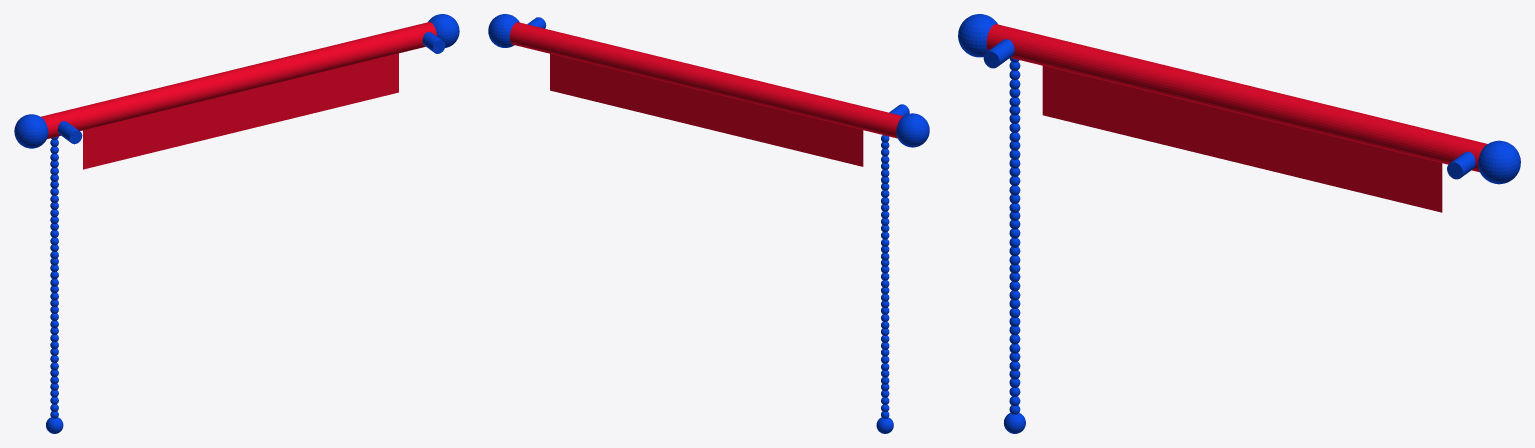
The model's file is Open_Blinds.fbx.
3 views of the same model, side by side, from view 1: azimuth 30°, elevation 25°; view 2: azimuth 150°, elevation 25°; view 3: azimuth 330°, elevation 25° (orthographic). The views are drawn at different scales.
Parts seen in each view (by area): view 1: Open_Blinds; view 2: Open_Blinds; view 3: Open_Blinds.
Part boxes in pixels (x1,y1,x2,y2): Open_Blinds: [14, 14, 459, 433]; Open_Blinds: [488, 14, 929, 433]; Open_Blinds: [958, 14, 1520, 433].
Bounding box in the file's own units: 841 × 593 × 86.18.
